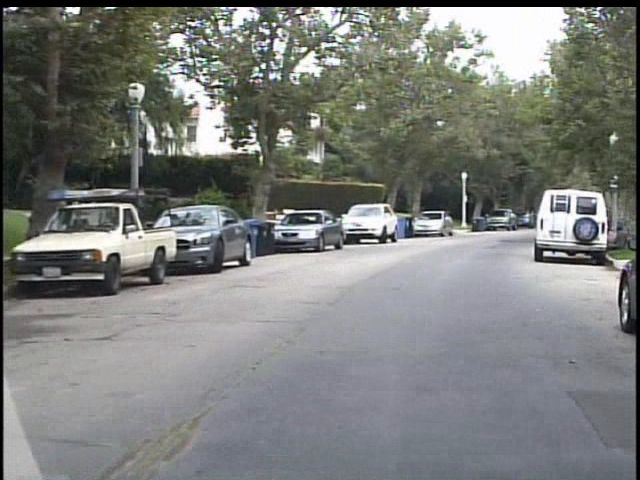person: (613, 223, 632, 252)
